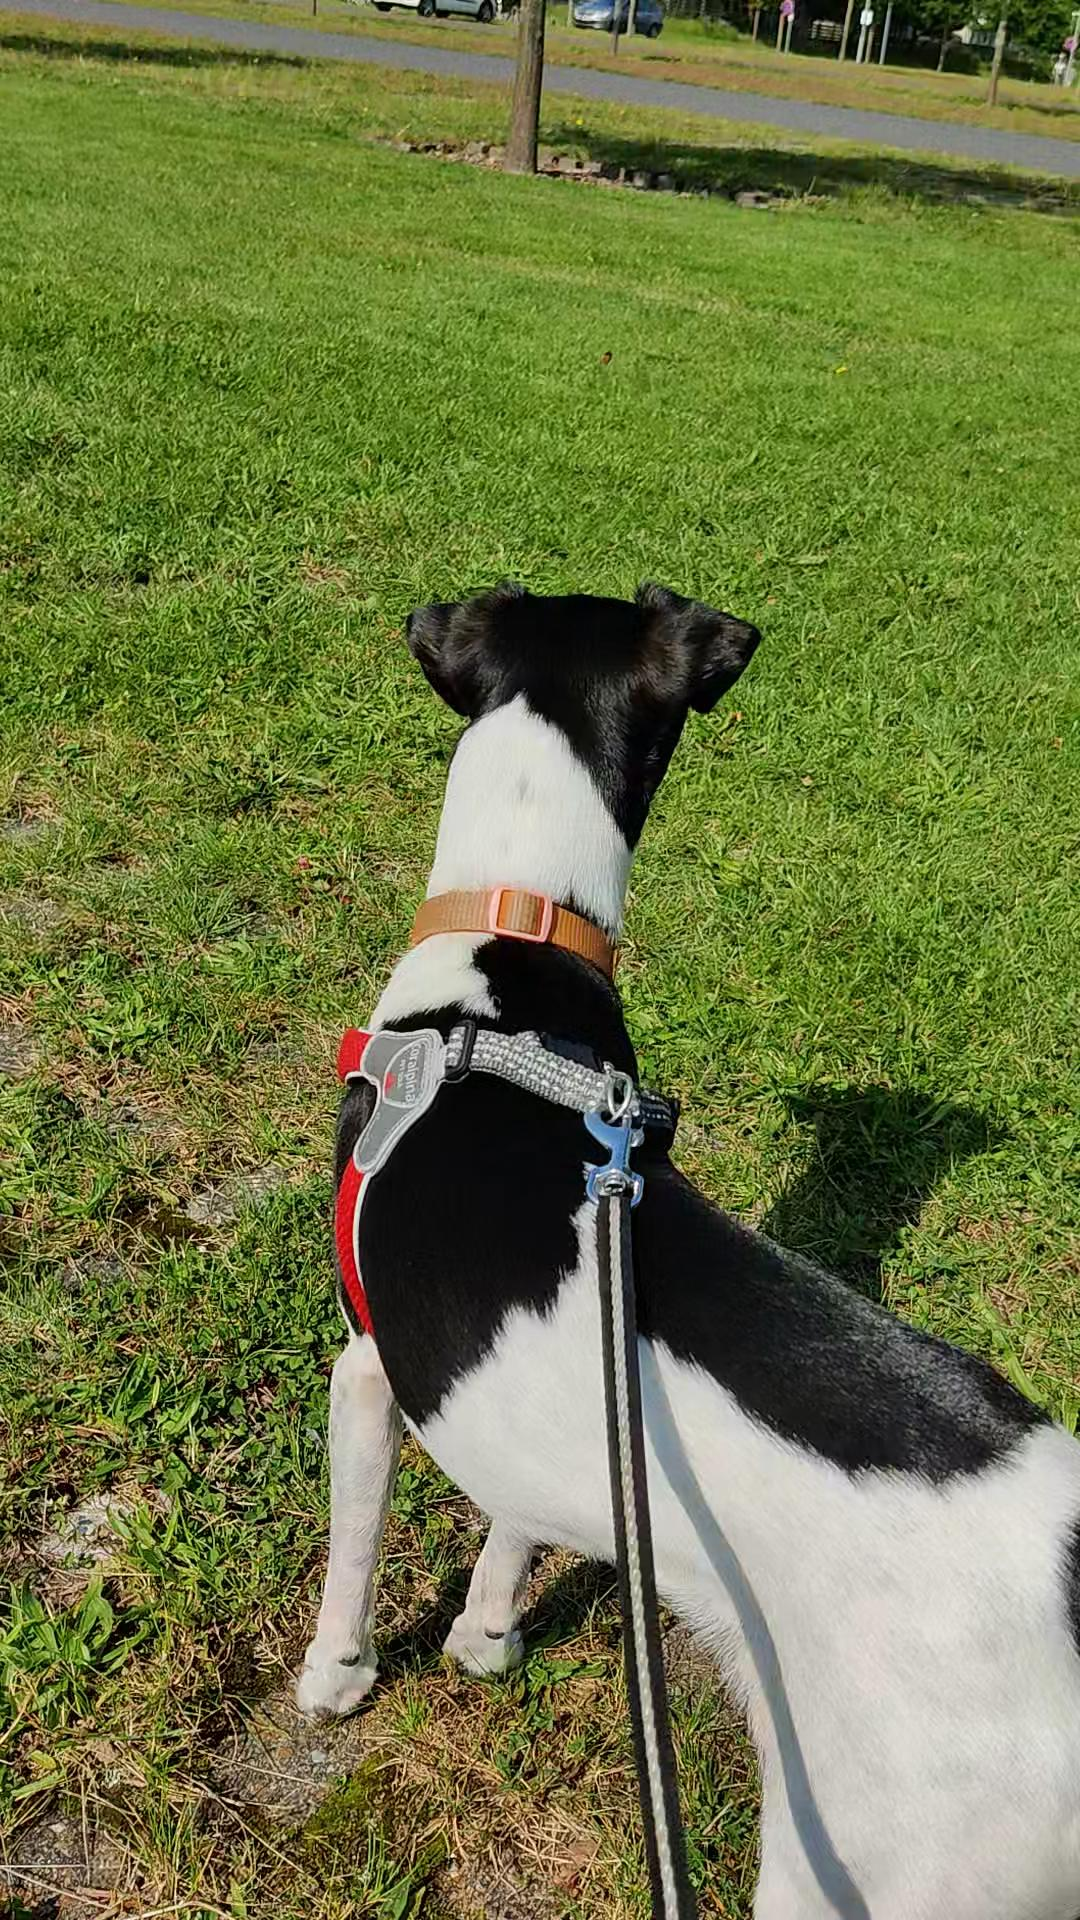Dog: (252, 539, 1079, 1919)
